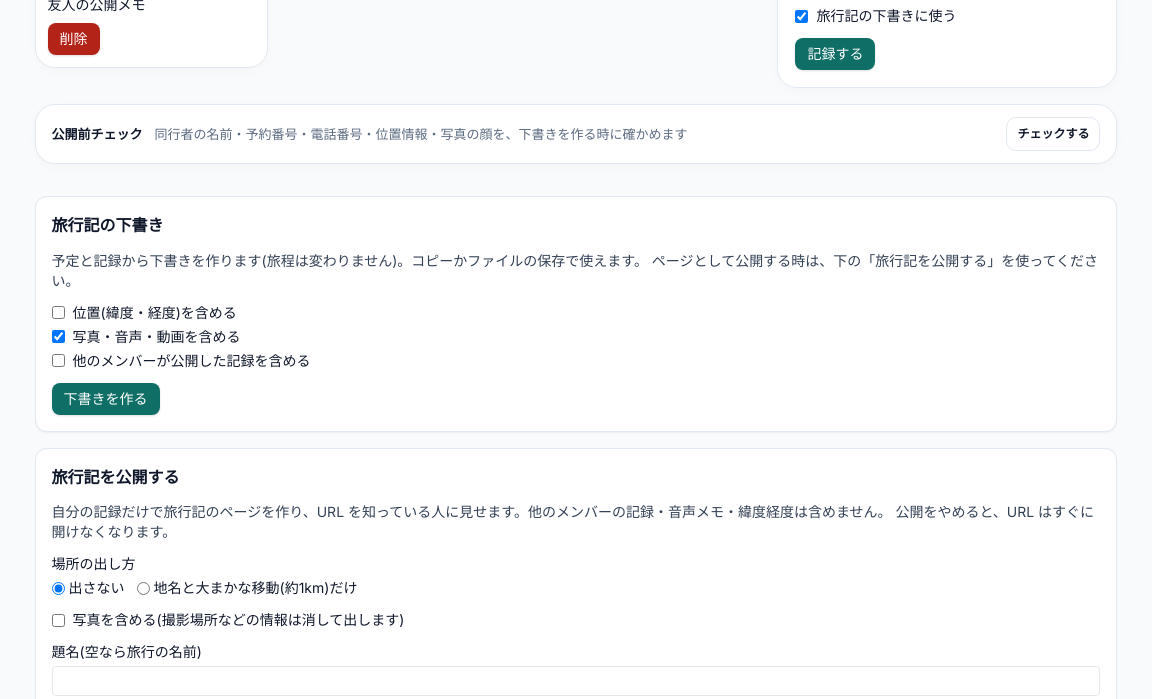
MemoriesPage (Gate P12) › 旅行記の下書き: 選んだ範囲で作り、公開前の確認を表示する
(page scrolled)
Click the checkbox labelled "他のメンバーが公開した記録を含める": (58, 360) x1=52 y1=354 x2=64 y2=367
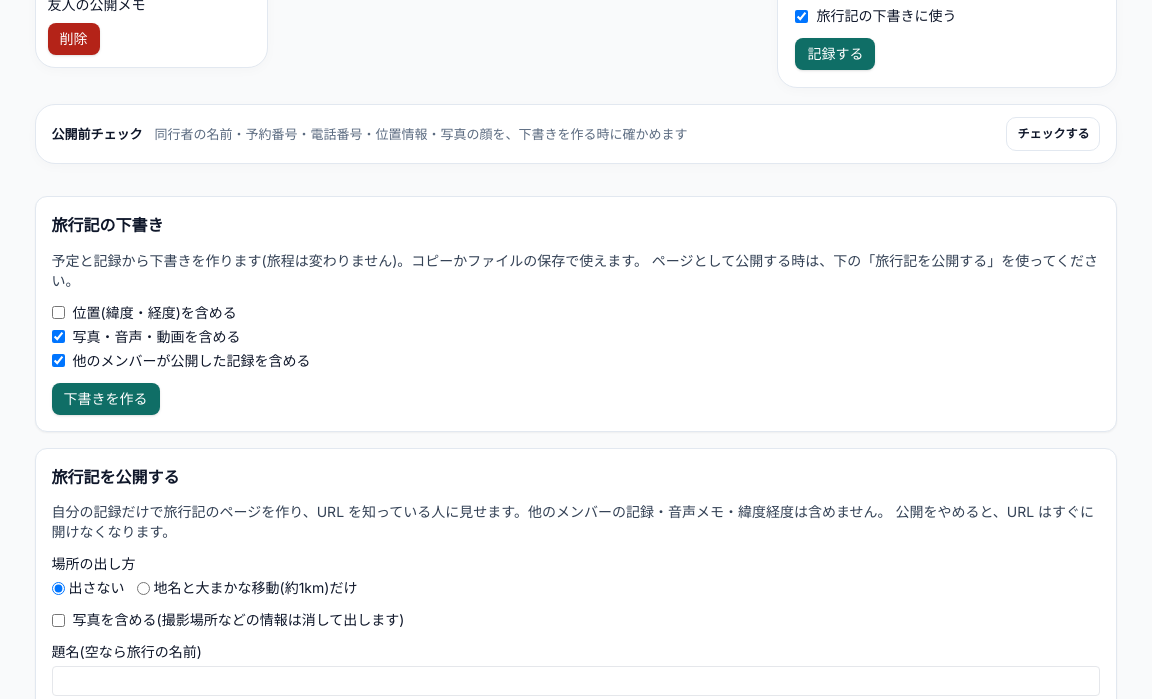
Click the button "下書きを作る": (106, 398) x1=52 y1=382 x2=160 y2=414
(page scrolled)
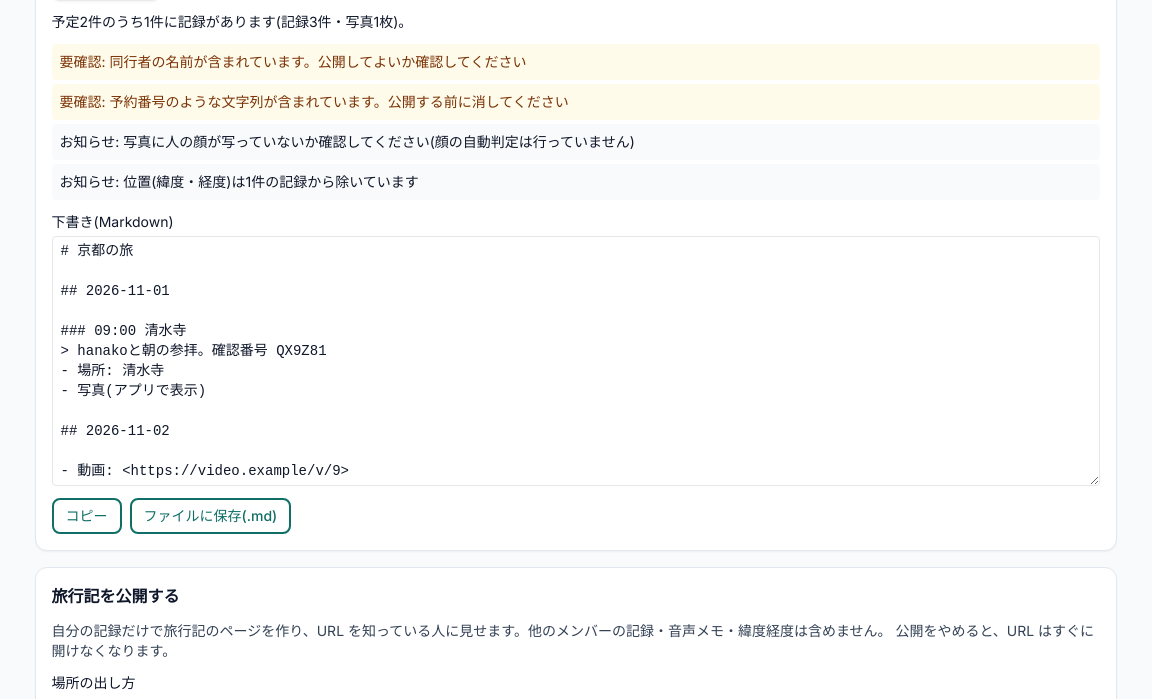
Now the list item "要確認: 同行者の名前が含まれています。公開してよいか確認してください" is shown, box x1=52 y1=44 x2=1100 y2=80
